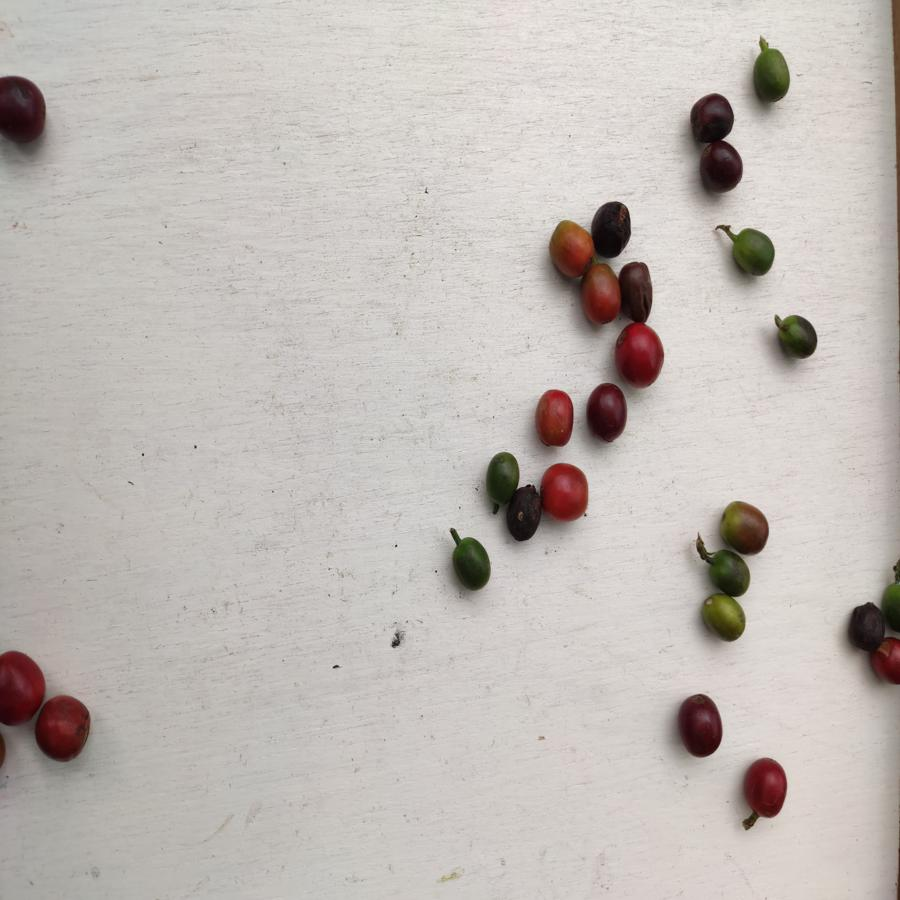Inmaduro: (728, 228, 778, 280), (698, 591, 748, 643), (449, 538, 495, 593), (705, 548, 755, 597), (777, 310, 820, 362), (753, 45, 791, 103), (485, 448, 514, 504)
Maduro: (32, 692, 93, 766), (1, 646, 45, 729), (541, 461, 592, 523), (615, 323, 666, 385), (742, 753, 788, 821), (578, 258, 621, 330), (547, 218, 592, 279), (535, 385, 578, 448)
Pinton: (718, 496, 774, 558)
Sobremaduro: (1, 72, 49, 148), (676, 692, 722, 763), (684, 90, 739, 143), (586, 383, 631, 445), (698, 136, 744, 192), (591, 198, 633, 258), (845, 593, 883, 652), (620, 260, 656, 322), (510, 488, 539, 540), (874, 634, 900, 688)
